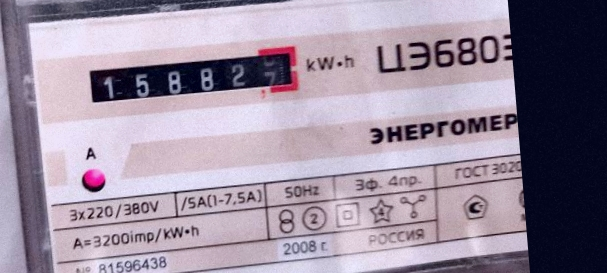1: (101, 70, 116, 100)
2: (228, 61, 247, 88)
5: (132, 70, 152, 101)
7: (261, 67, 276, 85)
8: (197, 63, 215, 93), (164, 67, 182, 96)
screen: (76, 36, 306, 115)
